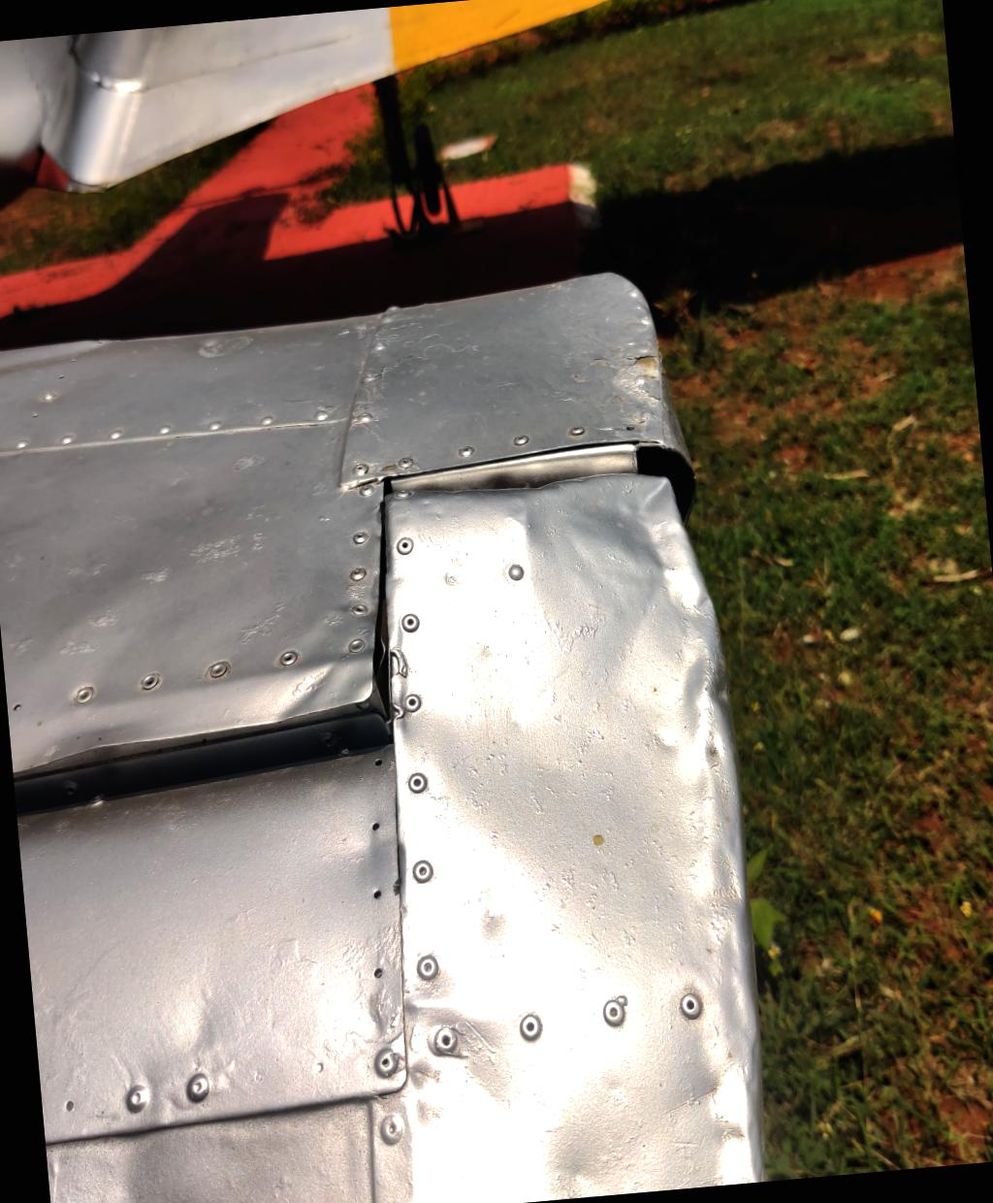dent: (503, 454, 715, 647)
